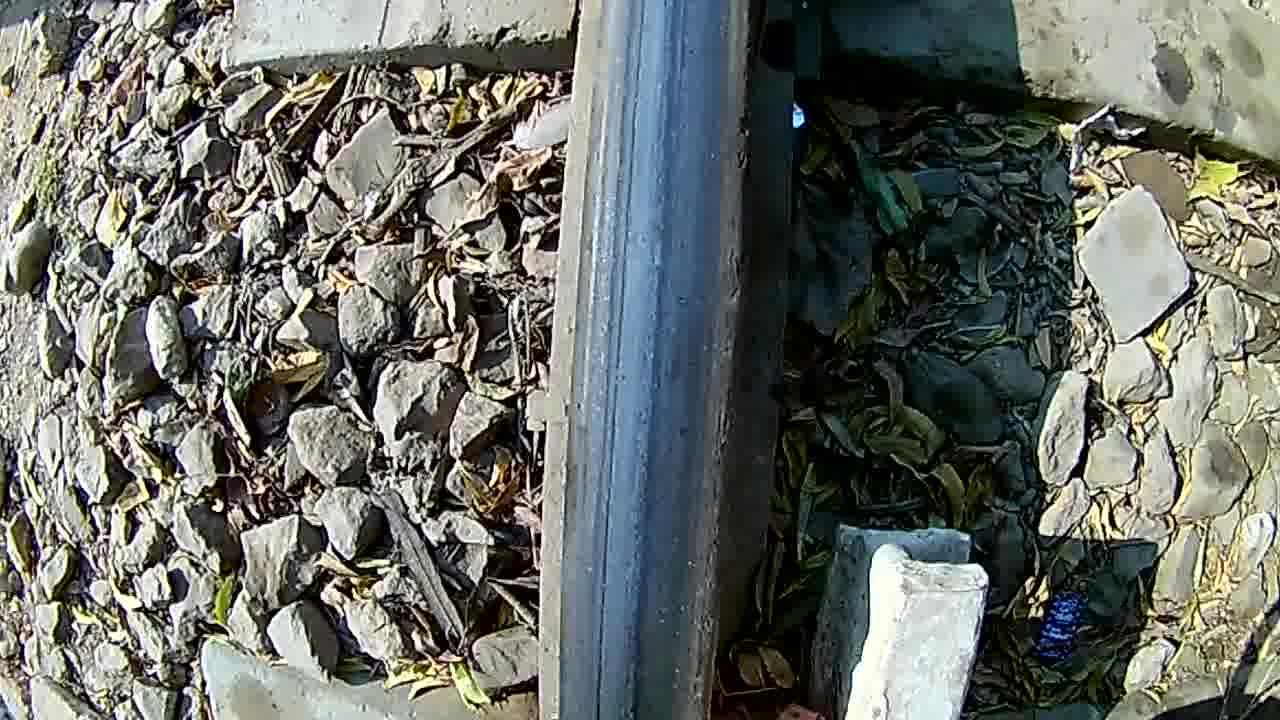clip_missing: (552, 2, 758, 720)
